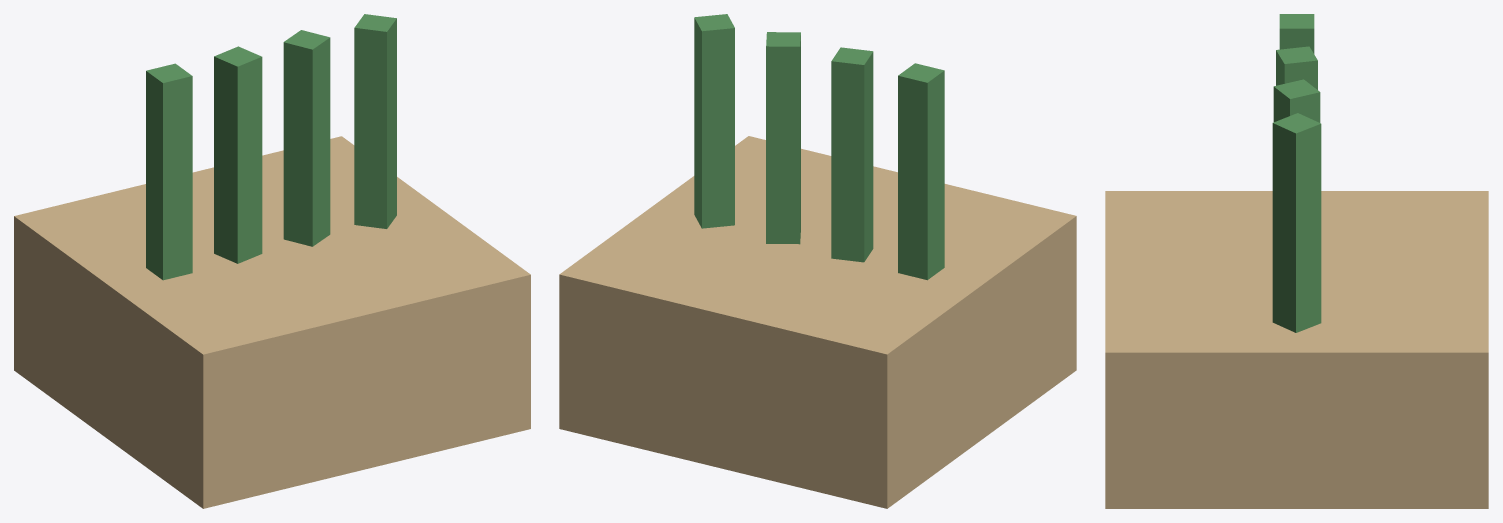
Rendered from bh_cr_desert_planter_01_lod0.glb.
The picture shows the model from 3 angles, left to right: view 1: azimuth 30°, elevation 25°; view 2: azimuth 150°, elevation 25°; view 3: azimuth 270°, elevation 25°; orthographic projection.
Parts seen in each view (by area): view 1: bh_cr_desert_planter_01_planter, bh_cr_desert_planter_01_shoot_1, bh_cr_desert_planter_01_shoot_2, bh_cr_desert_planter_01_shoot_0, bh_cr_desert_planter_01_shoot_3; view 2: bh_cr_desert_planter_01_planter, bh_cr_desert_planter_01_shoot_0, bh_cr_desert_planter_01_shoot_1, bh_cr_desert_planter_01_shoot_3, bh_cr_desert_planter_01_shoot_2; view 3: bh_cr_desert_planter_01_planter, bh_cr_desert_planter_01_shoot_3, bh_cr_desert_planter_01_shoot_2, bh_cr_desert_planter_01_shoot_1, bh_cr_desert_planter_01_shoot_0.
Boxes of the visible parts, bbox=[...] form: bh_cr_desert_planter_01_planter: bbox=[14, 136, 530, 508]; bh_cr_desert_planter_01_shoot_1: bbox=[214, 46, 262, 263]; bh_cr_desert_planter_01_shoot_2: bbox=[283, 30, 330, 246]; bh_cr_desert_planter_01_shoot_0: bbox=[146, 63, 192, 280]; bh_cr_desert_planter_01_shoot_3: bbox=[354, 14, 396, 228]; bh_cr_desert_planter_01_planter: bbox=[559, 136, 1076, 508]; bh_cr_desert_planter_01_shoot_0: bbox=[898, 63, 944, 280]; bh_cr_desert_planter_01_shoot_1: bbox=[831, 47, 873, 262]; bh_cr_desert_planter_01_shoot_3: bbox=[694, 14, 734, 228]; bh_cr_desert_planter_01_shoot_2: bbox=[766, 32, 800, 244]; bh_cr_desert_planter_01_planter: bbox=[1105, 191, 1488, 508]; bh_cr_desert_planter_01_shoot_3: bbox=[1272, 113, 1321, 332]; bh_cr_desert_planter_01_shoot_2: bbox=[1273, 79, 1320, 122]; bh_cr_desert_planter_01_shoot_1: bbox=[1276, 46, 1317, 89]; bh_cr_desert_planter_01_shoot_0: bbox=[1279, 14, 1314, 53].
Size of the model in its own units: 2 by 2.05 by 2.
